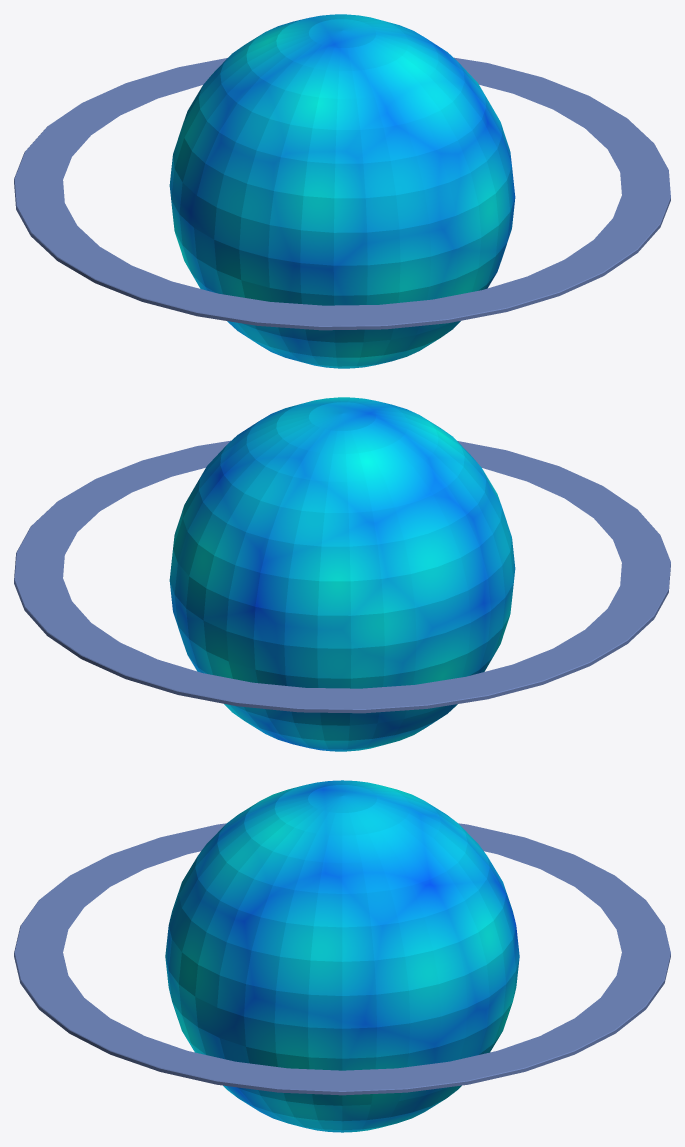
Rendered from uranus.glb.
3 views of the same model, one above another, from view 1: azimuth 30°, elevation 25°; view 2: azimuth 150°, elevation 25°; view 3: azimuth 270°, elevation 25° (orthographic).
Visible parts, largest first — view 1: Sphere.001, Circle.004; view 2: Sphere.001, Circle.004; view 3: Sphere.001, Circle.004.
Part boxes in pixels (left/top/right/bottom): Sphere.001: left=169, top=14, right=515, bottom=368; Circle.004: left=14, top=57, right=670, bottom=330; Sphere.001: left=169, top=397, right=515, bottom=751; Circle.004: left=14, top=440, right=670, bottom=713; Sphere.001: left=165, top=780, right=519, bottom=1132; Circle.004: left=14, top=823, right=670, bottom=1095.
Bounding box in the file's own units: 15.07 × 8.13 × 15.07.
Materials: 2 (1 with a texture image).
